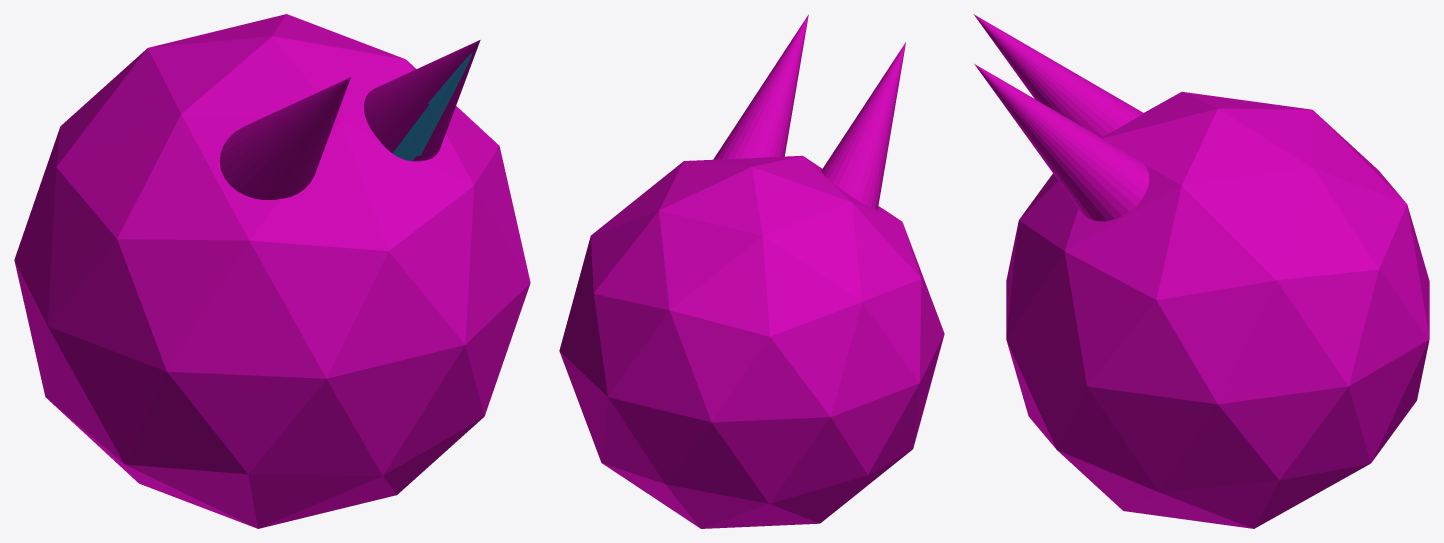
File: Enemy02.fbx
3 renders of one model, left to right at view 1: azimuth 30°, elevation 25°; view 2: azimuth 150°, elevation 25°; view 3: azimuth 270°, elevation 25°, orthographic. The views are drawn at different scales.
Parts seen in each view (by area): view 1: Icosphere.001, Cone.L.001, Cone.R.001, Cone.R; view 2: Icosphere.001, Cone.L.001, Cone.R.001; view 3: Icosphere.001, Cone.R.001, Cone.L.001.
Boxes of the visible parts, box(x1,y1,x2,y2) form: Icosphere.001: box(14, 14, 530, 528); Cone.L.001: box(219, 77, 350, 199); Cone.R.001: box(364, 40, 480, 161); Cone.R: box(392, 53, 472, 161); Icosphere.001: box(559, 155, 944, 528); Cone.L.001: box(821, 42, 905, 209); Cone.R.001: box(713, 14, 808, 159); Icosphere.001: box(1006, 91, 1429, 528); Cone.R.001: box(974, 64, 1149, 221); Cone.L.001: box(973, 14, 1143, 137).
Bounding box in the file's own units: 211 × 249 × 216.
Materials: 1 (1 with a texture image).
